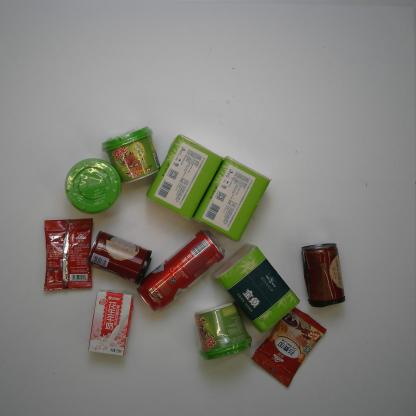Alcohol: (135, 228, 227, 314)
Canned Food: (85, 229, 153, 285), (301, 242, 346, 310)
Instant Drink: (251, 306, 328, 388), (42, 217, 94, 293), (195, 301, 254, 363), (100, 126, 162, 184), (64, 158, 122, 215)
Milk: (88, 288, 134, 356)
Tissue: (210, 244, 301, 334), (191, 153, 272, 243), (145, 133, 225, 222)
